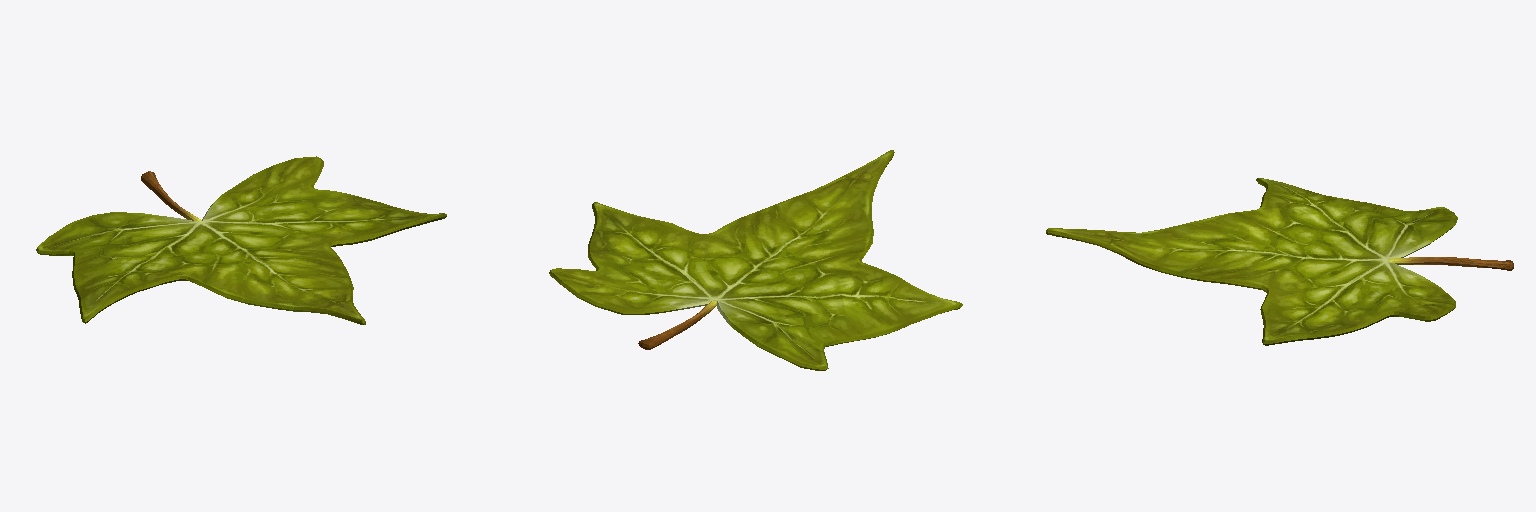
3 views of the same model, side by side, from view 1: azimuth 30°, elevation 25°; view 2: azimuth 150°, elevation 25°; view 3: azimuth 270°, elevation 25° (orthographic).
Visible parts, largest first — view 1: Object.1; view 2: Object.1; view 3: Object.1.
Part boxes in pixels (left/top/right/bottom): Object.1: left=36, top=156, right=446, bottom=324; Object.1: left=549, top=150, right=962, bottom=370; Object.1: left=1046, top=178, right=1513, bottom=345.
Size of the model in its own units: 98.31 by 11.8 by 109.
Materials: 1 (1 with a texture image).